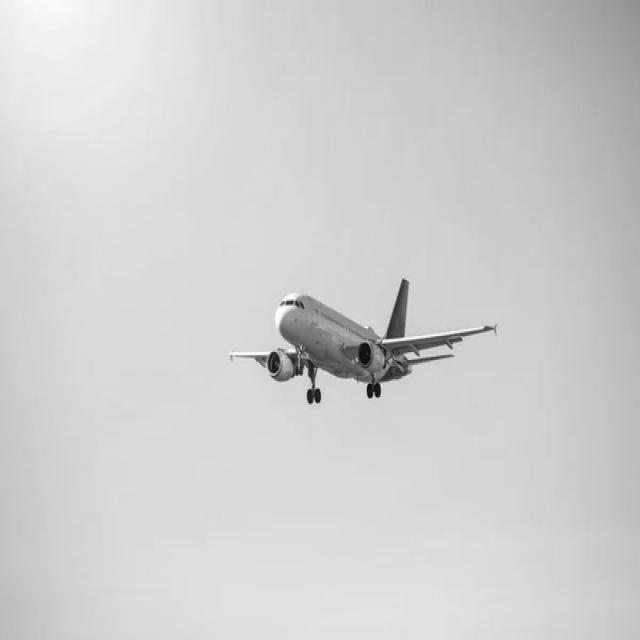Aircraft: (226, 264, 497, 408)
